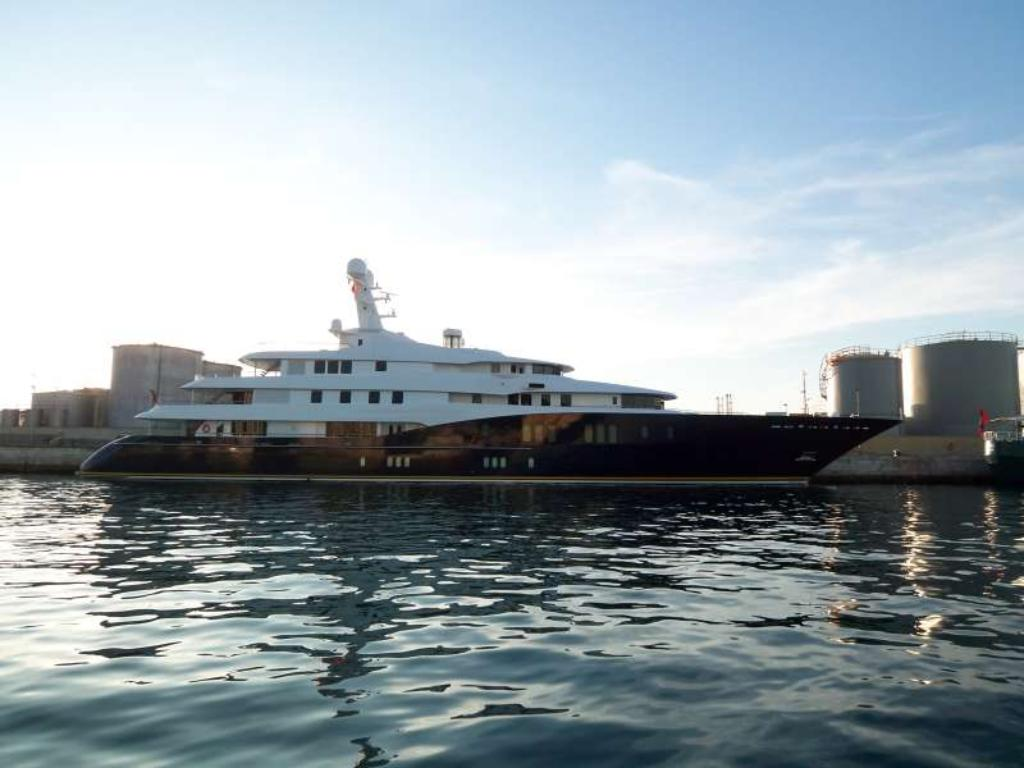PassengerShip: (44, 254, 916, 486)
